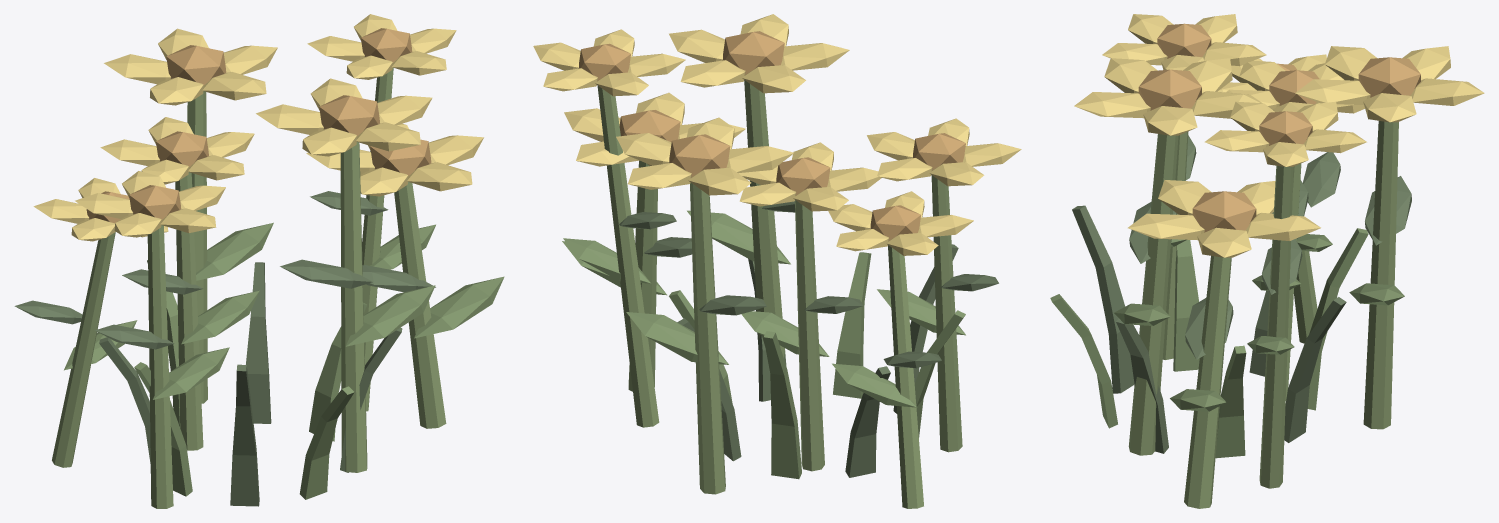
The model's file is flower-yellow.glb.
The picture shows the model from 3 angles, left to right: view 1: azimuth 30°, elevation 25°; view 2: azimuth 150°, elevation 25°; view 3: azimuth 270°, elevation 25°; orthographic projection. The views are drawn at different scales.
Parts seen in each view (by area): view 1: flower-yellow; view 2: flower-yellow; view 3: flower-yellow.
Boxes of the visible parts, x1,y1,x2,y2 form: flower-yellow: (14,14,504,508); flower-yellow: (533,14,1021,508); flower-yellow: (1050,14,1484,508).
Bounding box in the file's own units: 0.9468 × 0.7718 × 0.7766.
